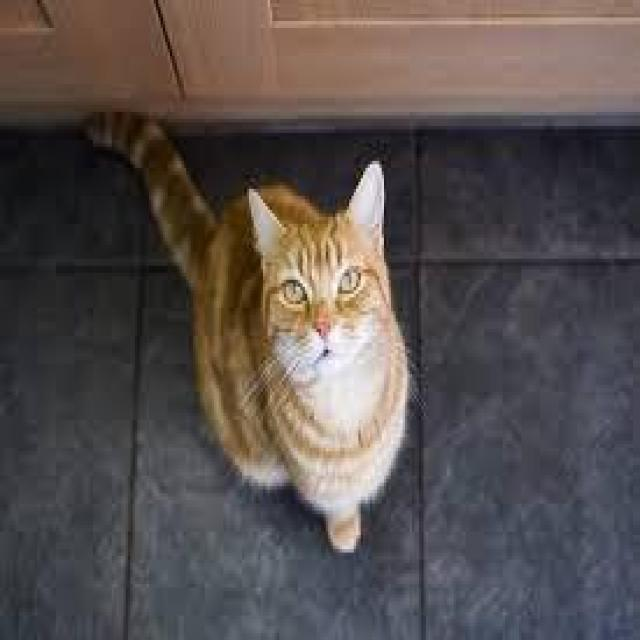Cat: (243, 156, 402, 387)
